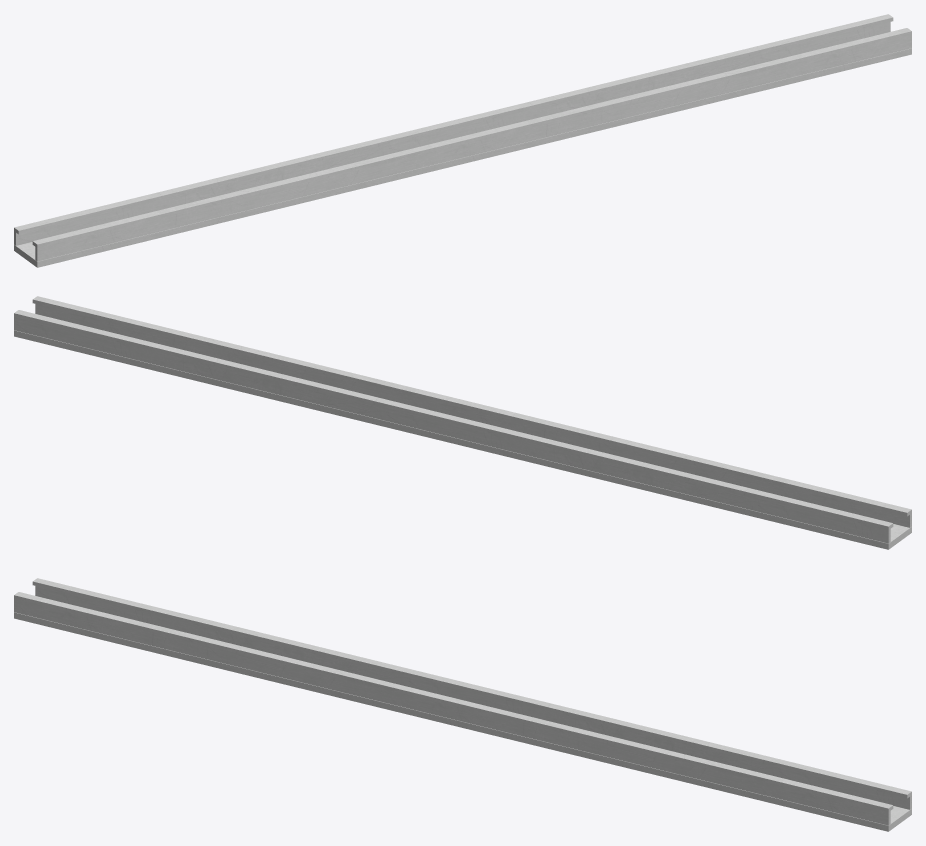
File: EscapeDoorTrack.obj
3 views of the same model, one above another, from view 1: azimuth 30°, elevation 25°; view 2: azimuth 150°, elevation 25°; view 3: azimuth 330°, elevation 25° (orthographic).
Visible parts, largest first — view 1: Part3, Part1, Part2, Part4, Part5; view 2: Part1, Part3, Part4, Part2, Part5; view 3: Part3, Part1, Part2, Part4, Part5.
Boxes of the visible parts, bbox=[...] form: Part3: bbox=[35, 35, 911, 261]; Part1: bbox=[14, 22, 890, 245]; Part2: bbox=[14, 14, 893, 234]; Part4: bbox=[32, 28, 911, 247]; Part5: bbox=[14, 48, 911, 267]; Part1: bbox=[14, 317, 890, 543]; Part3: bbox=[35, 304, 911, 527]; Part4: bbox=[32, 296, 911, 516]; Part2: bbox=[14, 310, 893, 529]; Part5: bbox=[14, 330, 911, 549]; Part3: bbox=[14, 599, 890, 825]; Part1: bbox=[35, 586, 911, 809]; Part2: bbox=[32, 578, 911, 798]; Part4: bbox=[14, 592, 893, 811]; Part5: bbox=[14, 612, 911, 831].
Size of the model in its own units: 18.88 by 0.48 by 0.875.
1 material, 1 textured.
